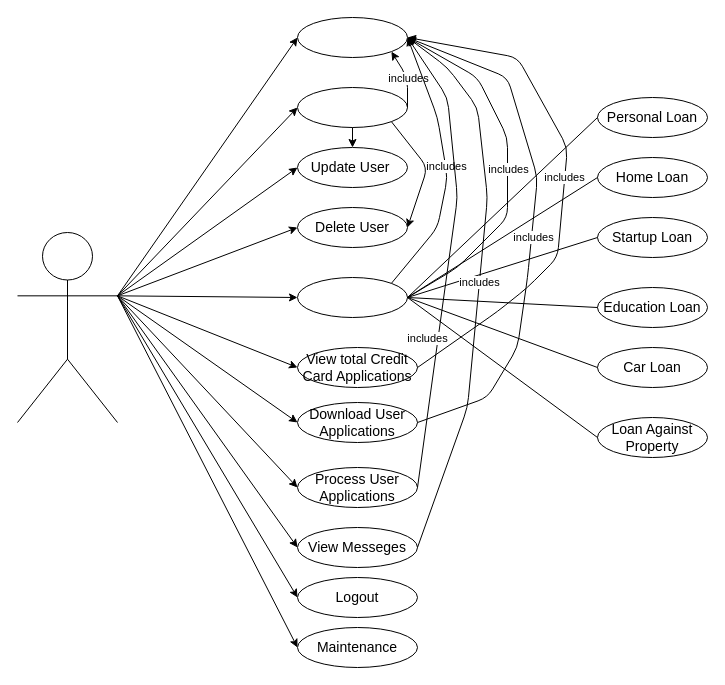
Image size: 725x685. Some labels were removed from this diagram. Here are the shapes that lost their labels. From the top down, the centre of each, then its label:
At point 352,37: "Login".
At point 352,107: "View User Information".
At point 352,297: "View Total Loan Applicatons".
At point 67,327: "Admin".
